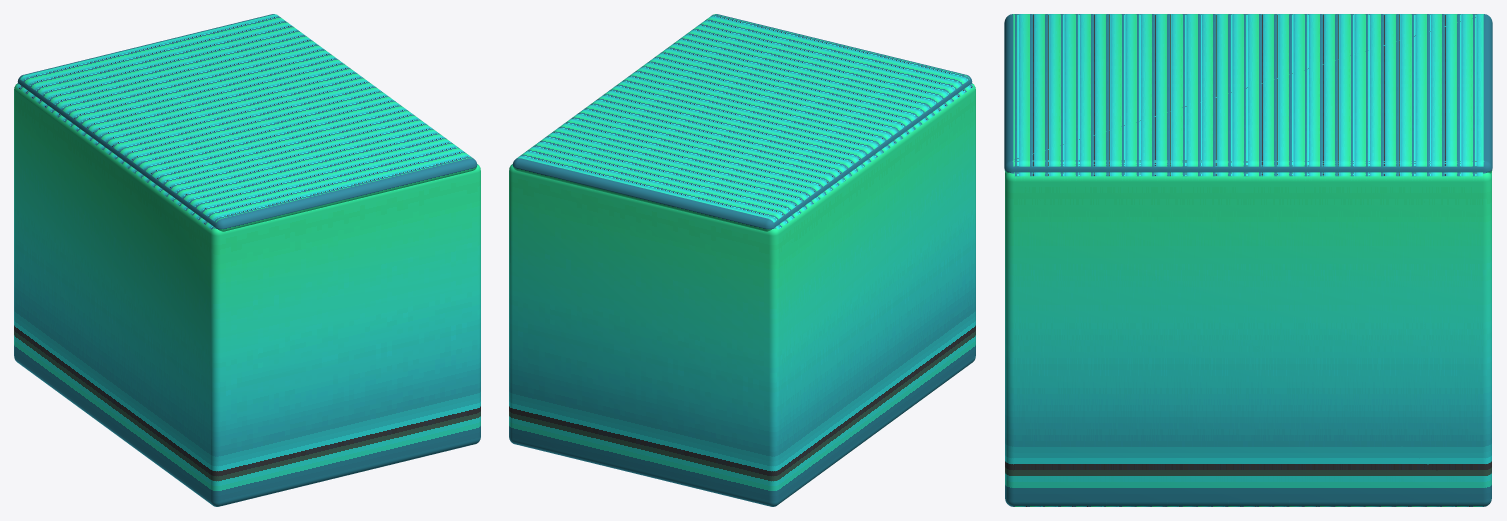
Rendered from one_block.fbx.
The picture shows the model from 3 angles, left to right: view 1: azimuth 30°, elevation 25°; view 2: azimuth 150°, elevation 25°; view 3: azimuth 270°, elevation 25°; orthographic projection. The views are drawn at different scales.
Visible parts, largest first — view 1: up_1; view 2: up_1; view 3: up_1.
Part boxes in pixels (x1,y1,x2,y2): up_1: (14,14,480,506); up_1: (509,14,975,506); up_1: (1004,14,1492,506).
Bounding box in the file's own units: 207 × 211 × 271.
1 material, 1 textured.
